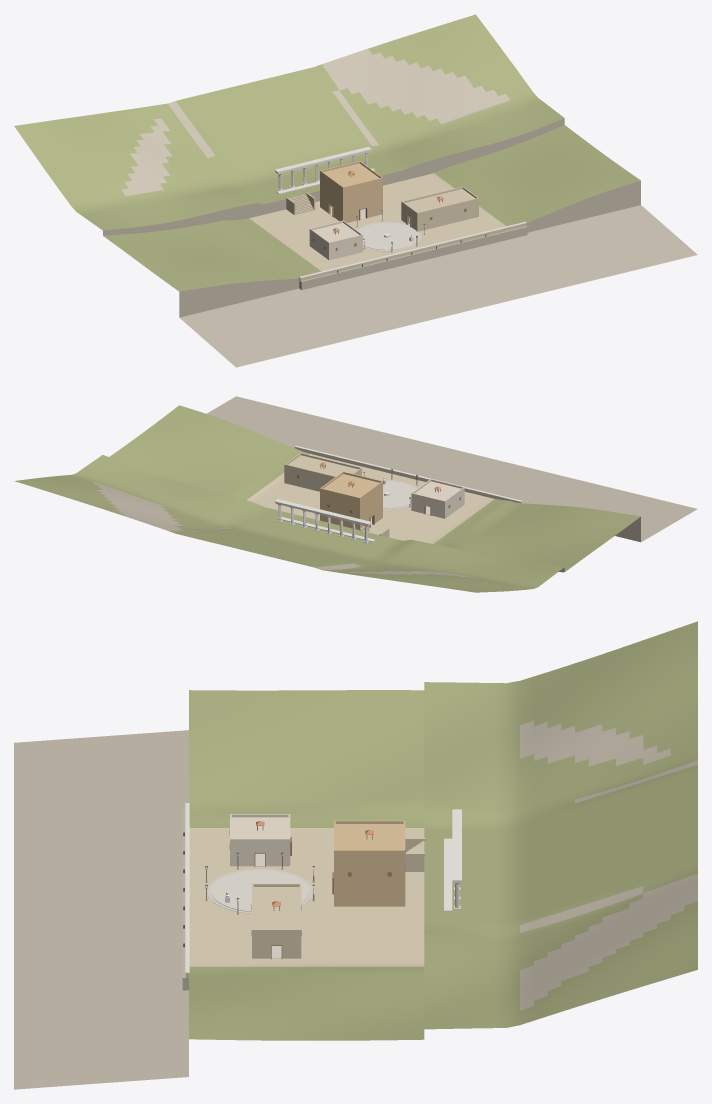
File: village.glb
The picture shows the model from 3 angles, top to bottom: view 1: azimuth 30°, elevation 25°; view 2: azimuth 150°, elevation 25°; view 3: azimuth 270°, elevation 25°; orthographic projection. The views are drawn at different scales.
Visible parts, largest first — view 1: SM_Terrain, SM_SeaWall, SM_House_Eyes, SM_House_Door, SM_House_Window, SM_Plaza, SM_Colonnade; view 2: SM_Terrain, SM_House_Eyes, SM_House_Door, SM_House_Window, SM_Colonnade, SM_SeaWall, SM_Plaza; view 3: SM_Terrain, SM_House_Eyes, SM_House_Door, SM_House_Window, SM_Plaza, SM_Colonnade, SM_SeaWall.
Part boxes in pixels (x1,y1,x2,y2): SM_Terrain: (14, 14, 697, 367); SM_SeaWall: (299, 221, 527, 290); SM_House_Eyes: (320, 161, 382, 222); SM_House_Door: (401, 186, 478, 231); SM_House_Window: (309, 220, 362, 260); SM_Plaza: (357, 222, 421, 251); SM_Colonnade: (274, 147, 375, 194); SM_Terrain: (14, 396, 697, 592); SM_House_Eyes: (320, 471, 382, 529); SM_House_Door: (284, 453, 361, 491); SM_House_Window: (411, 479, 464, 518); SM_Colonnade: (274, 499, 375, 543); SM_SeaWall: (294, 445, 521, 503); SM_Plaza: (383, 480, 417, 509); SM_Terrain: (14, 621, 697, 1089); SM_House_Eyes: (332, 820, 405, 906); SM_House_Door: (251, 883, 301, 959); SM_House_Window: (229, 814, 291, 866); SM_Plaza: (207, 869, 313, 913); SM_Colonnade: (444, 809, 461, 911); SM_SeaWall: (182, 803, 189, 990).
Size of the model in its own units: 150 by 24.5 by 125.
